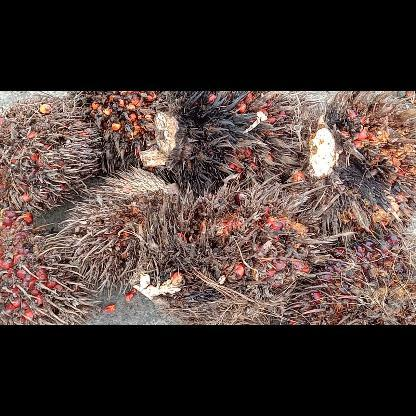Terlalu masak: (127, 180, 338, 318), (303, 90, 415, 240), (58, 166, 180, 296), (141, 91, 295, 191), (0, 97, 101, 222), (288, 234, 414, 324), (0, 210, 96, 324), (68, 91, 166, 171)
